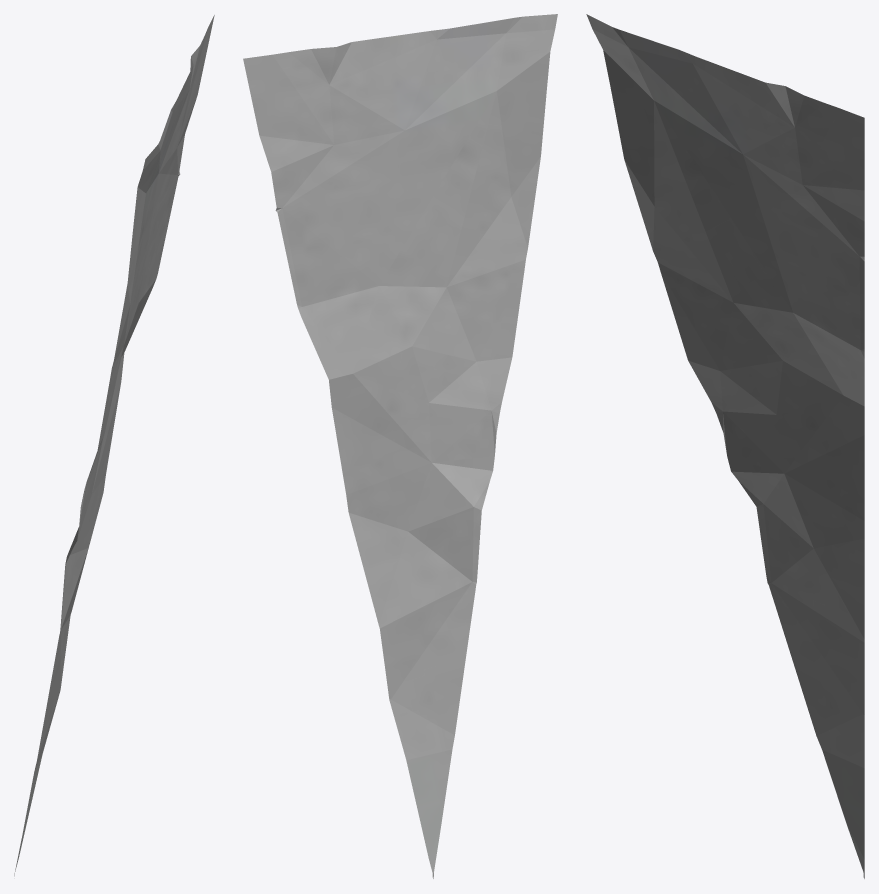
3 renders of one model, left to right at view 1: azimuth 30°, elevation 25°; view 2: azimuth 150°, elevation 25°; view 3: azimuth 270°, elevation 25°, orthographic. The views are drawn at different scales.
Size of the model in its own units: 0.1081 by 0.4205 by 0.1225.
1 material, 1 textured.
